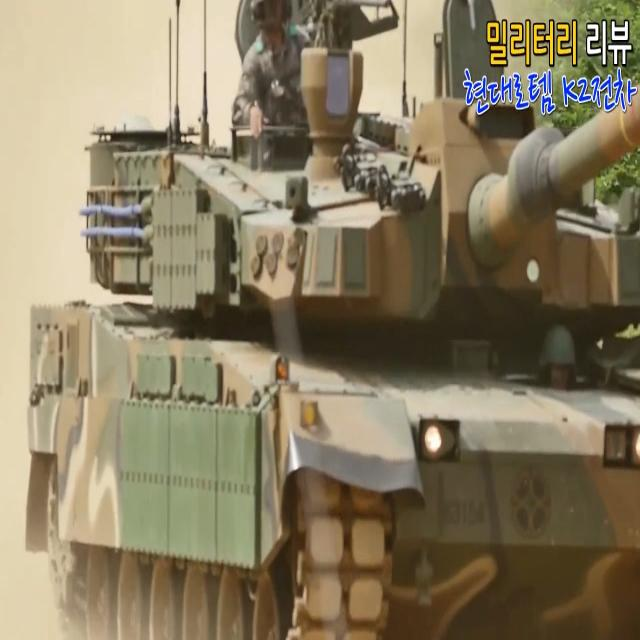korea tank: (22, 1, 640, 640)
